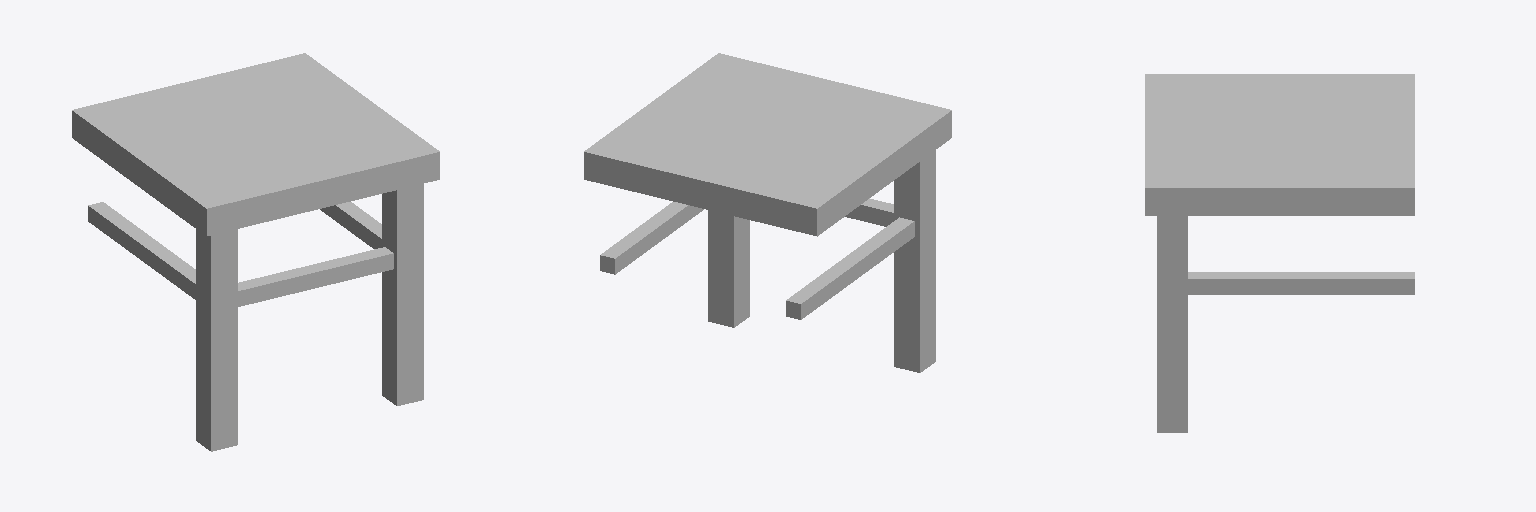
File: multidecor_kitchen_modern_wooden_table_1.obj
The picture shows the model from 3 angles: view 1: azimuth 30°, elevation 25°; view 2: azimuth 150°, elevation 25°; view 3: azimuth 270°, elevation 25°; orthographic projection.
Parts seen in each view (by area): view 1: Cube; view 2: Cube; view 3: Cube.
Boxes of the visible parts, box(x1,y1,x2,y2) form: Cube: box(72, 53, 439, 451); Cube: box(584, 53, 951, 372); Cube: box(1145, 74, 1414, 432).
Bounding box in the file's own units: 2.2 × 2.25 × 2.2.